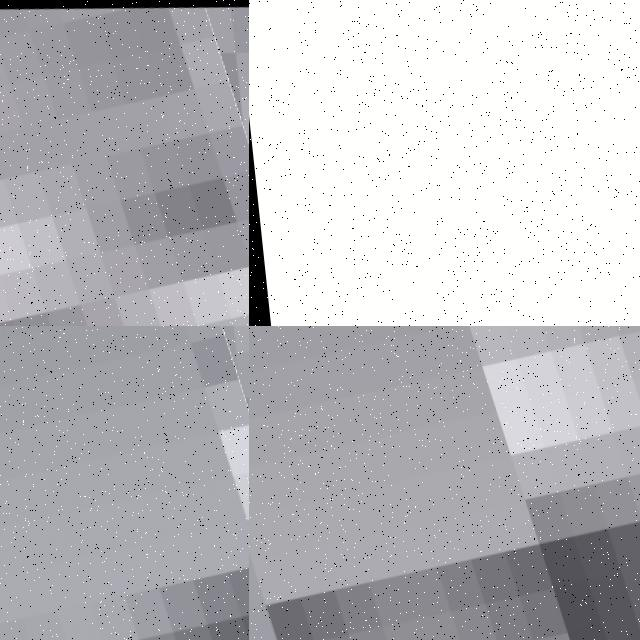0: (249, 326, 640, 640), (0, 0, 249, 326), (0, 326, 249, 640)
drone: (249, 0, 640, 326)
